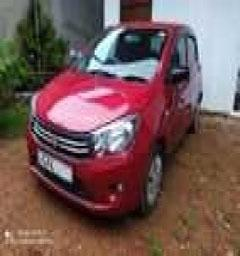car: (19, 13, 228, 229)
